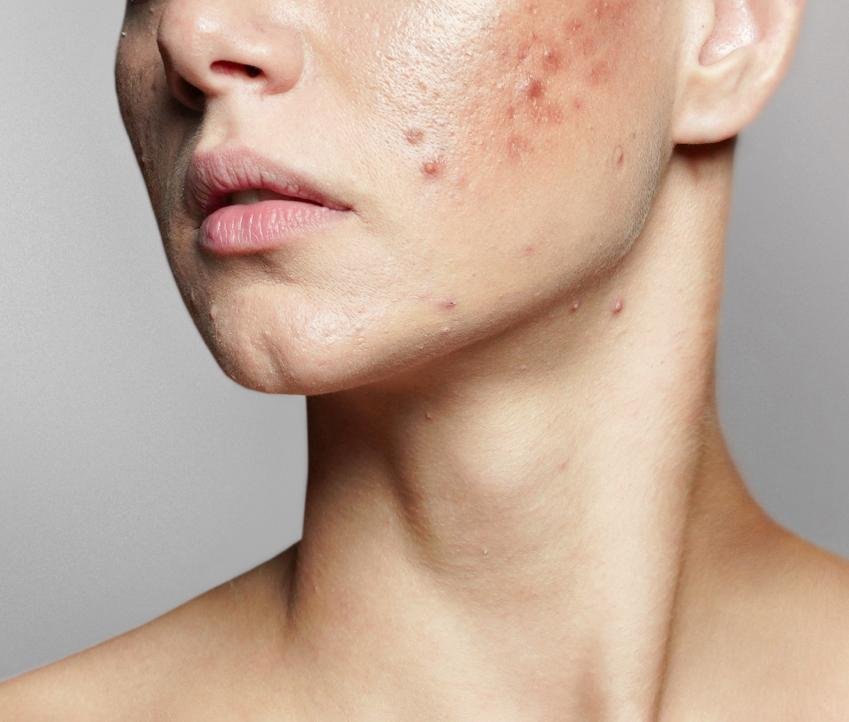acne marks: (391, 61, 641, 182)
